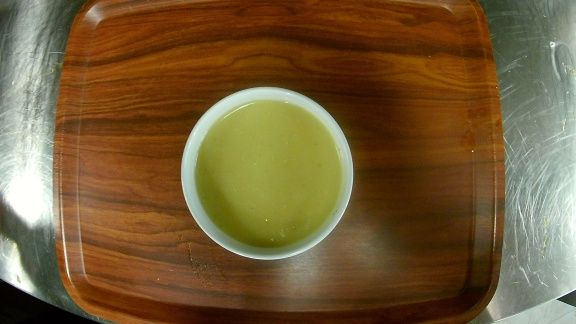mercimek: (178, 84, 356, 260)
